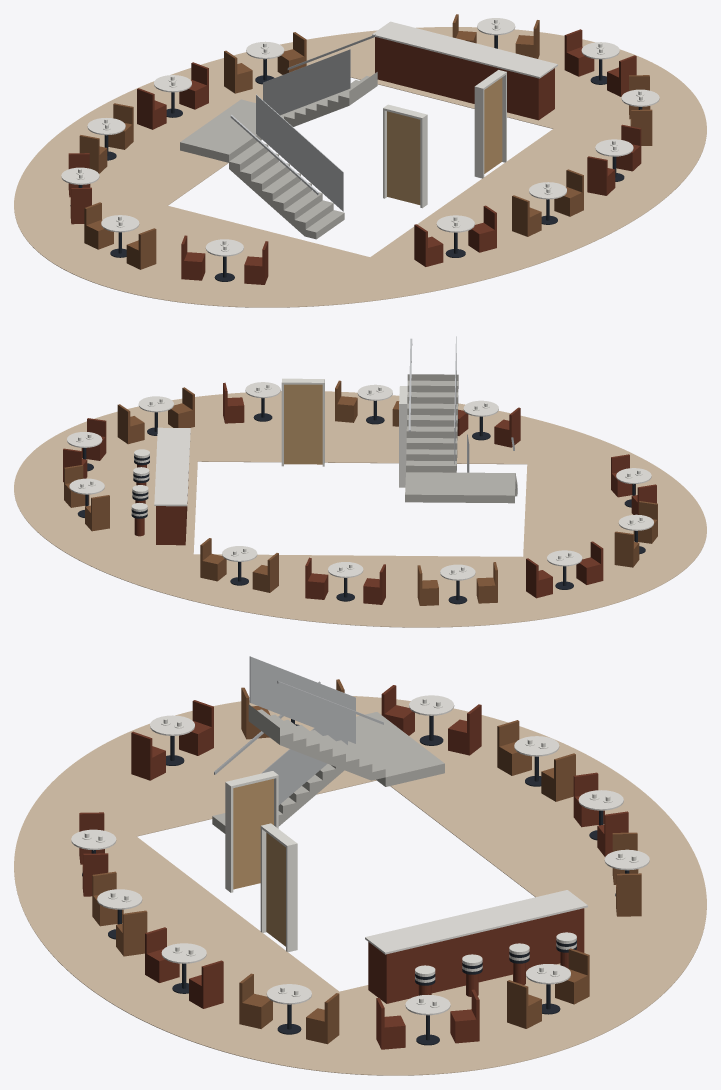
3 views of the same model, one above another, from view 1: azimuth 30°, elevation 25°; view 2: azimuth 150°, elevation 25°; view 3: azimuth 270°, elevation 25° (orthographic). The views are drawn at different scales.
Visible parts, largest first — view 1: Pisos, Mobiliario, Carpintería, Escaleras, Barandales, Puertas; view 2: Pisos, Mobiliario, Escaleras, Puertas, Carpintería, Barandales; view 3: Pisos, Mobiliario, Carpintería, Puertas, Escaleras, Barandales.
Part boxes in pixels (x1,y1,x2,y2): Pisos: [14, 27, 706, 307]; Mobiliario: [61, 14, 659, 284]; Carpintería: [372, 21, 557, 120]; Escaleras: [180, 72, 377, 239]; Barandales: [230, 34, 375, 211]; Puertas: [383, 70, 506, 208]; Pisos: [14, 391, 706, 627]; Mobiliario: [63, 380, 657, 605]; Escaleras: [405, 374, 517, 503]; Puertas: [281, 378, 407, 487]; Carpintería: [154, 427, 190, 545]; Barandales: [408, 336, 514, 472]; Pisos: [14, 696, 706, 1075]; Mobiliario: [71, 679, 649, 1049]; Carpintería: [365, 890, 587, 1003]; Puertas: [225, 771, 297, 952]; Escaleras: [212, 704, 444, 833]; Barandales: [214, 656, 383, 805].
Bounding box in the file's own units: 16.7 × 4.03 × 12.87.
